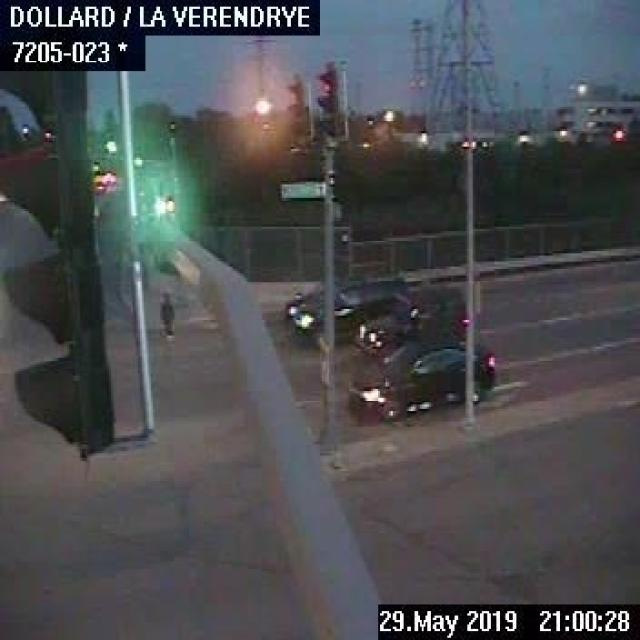pedestrian: (158, 286, 173, 336)
vehicle: (347, 336, 492, 422), (283, 272, 415, 350), (353, 290, 472, 352), (95, 167, 116, 195)
